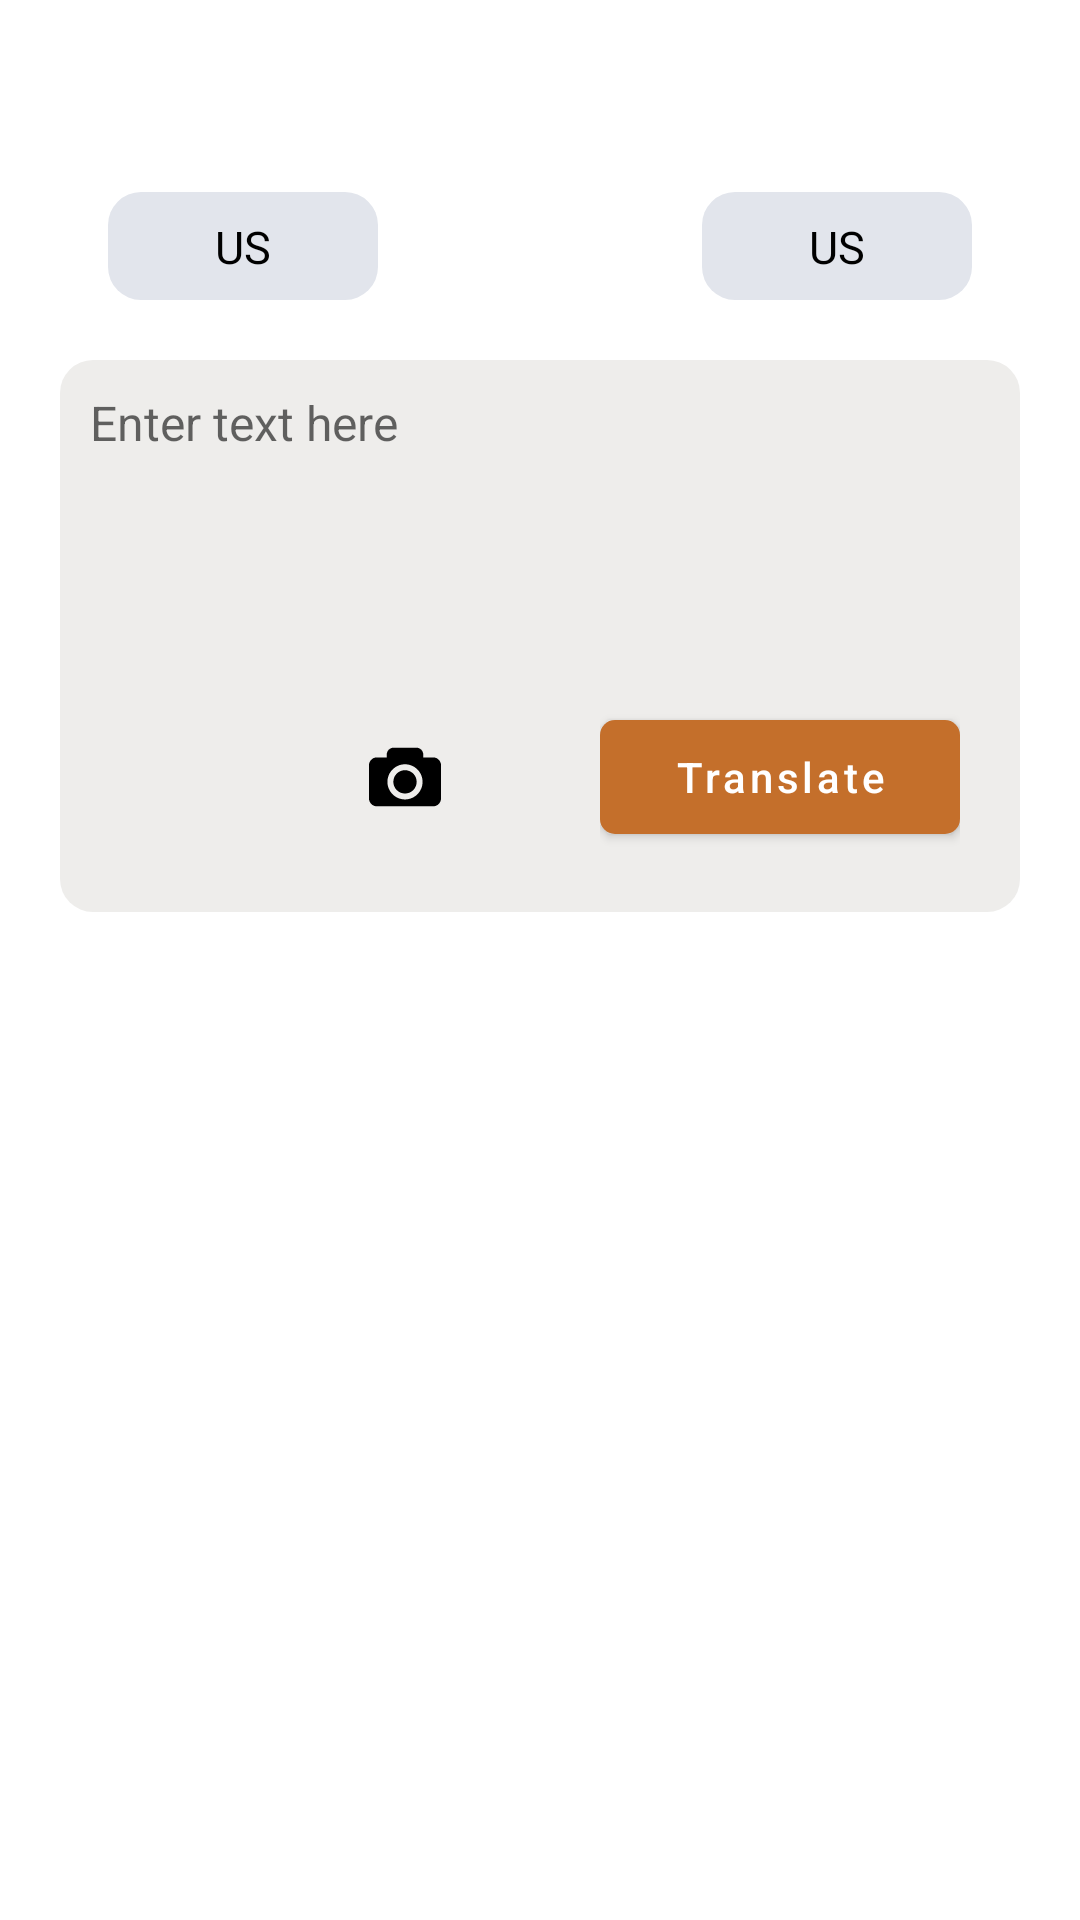

Where to tap for icons on this 1080px x 1920px app screen, as [x,y]:
camera: [405,777]
